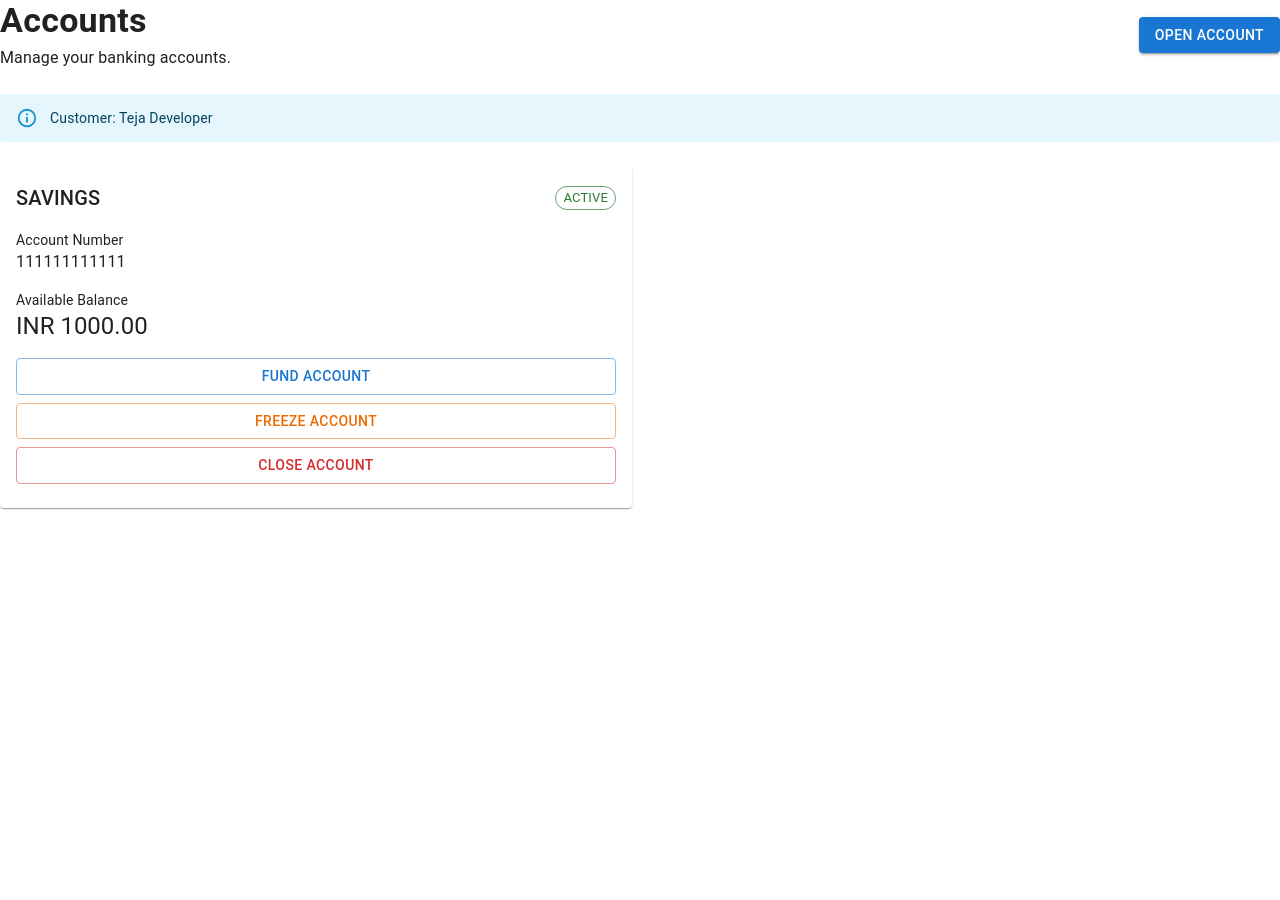
Test: Accounts › rejects invalid funding amount
The width and height of the screenshot is (1280, 900).
Expected: the text "111111111111" is shown, [16,252,126,271]
Click the button "Fund Account" at (316, 376), box [16,358,616,394]
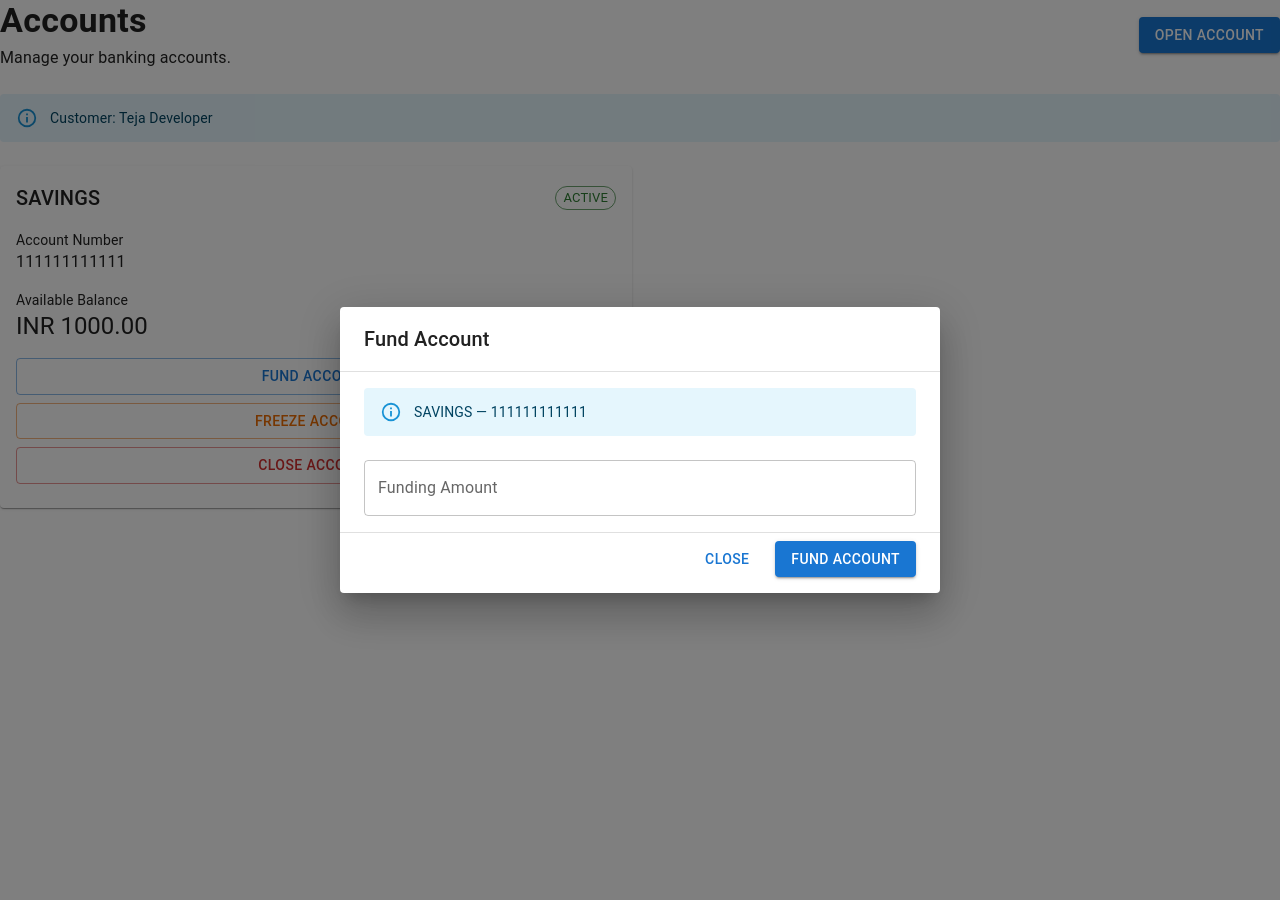
Type "0" into the field labelled "Funding Amount" at (640, 488), box [364,460,916,516]
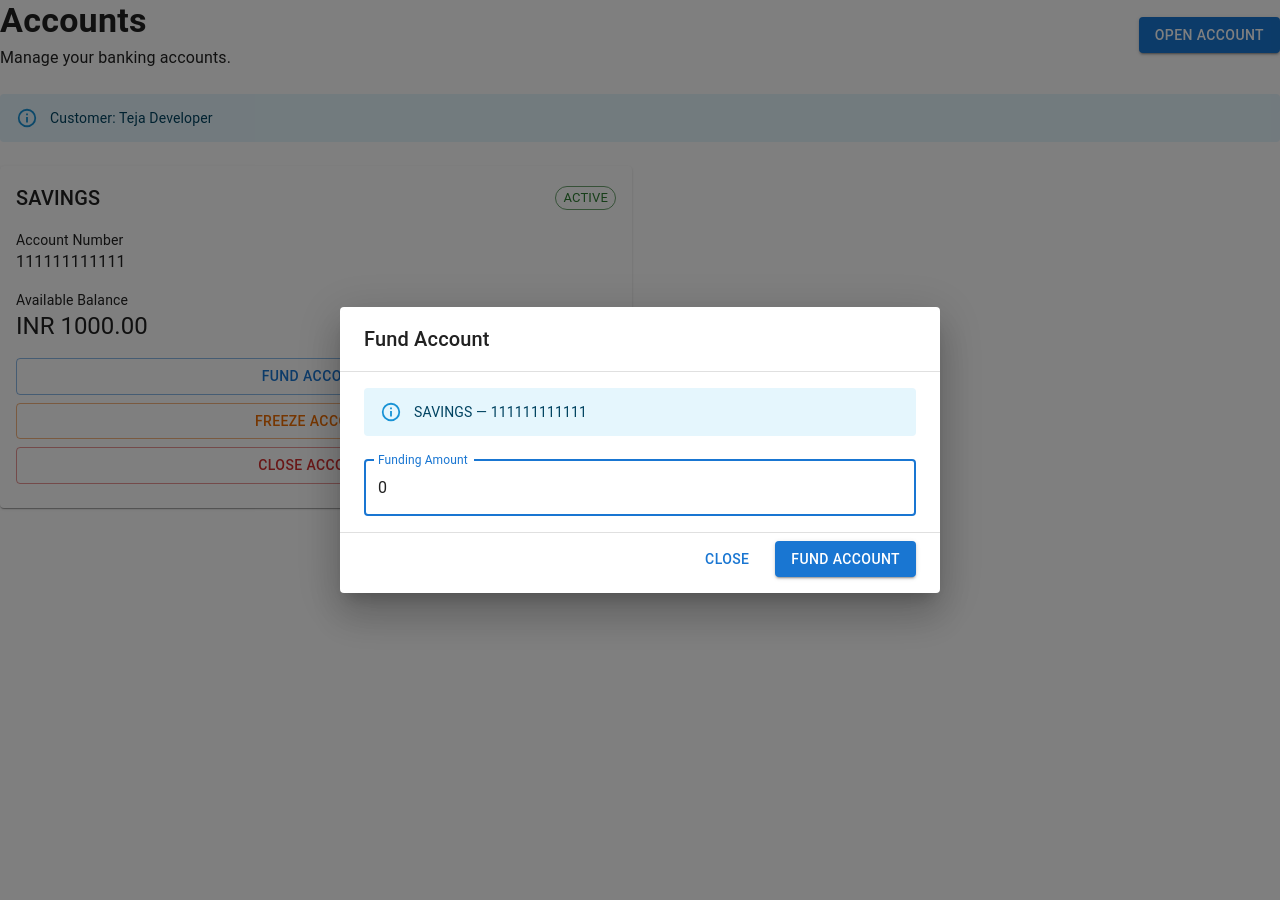
Click the button "Fund Account" at (846, 559), box [775,541,916,577]
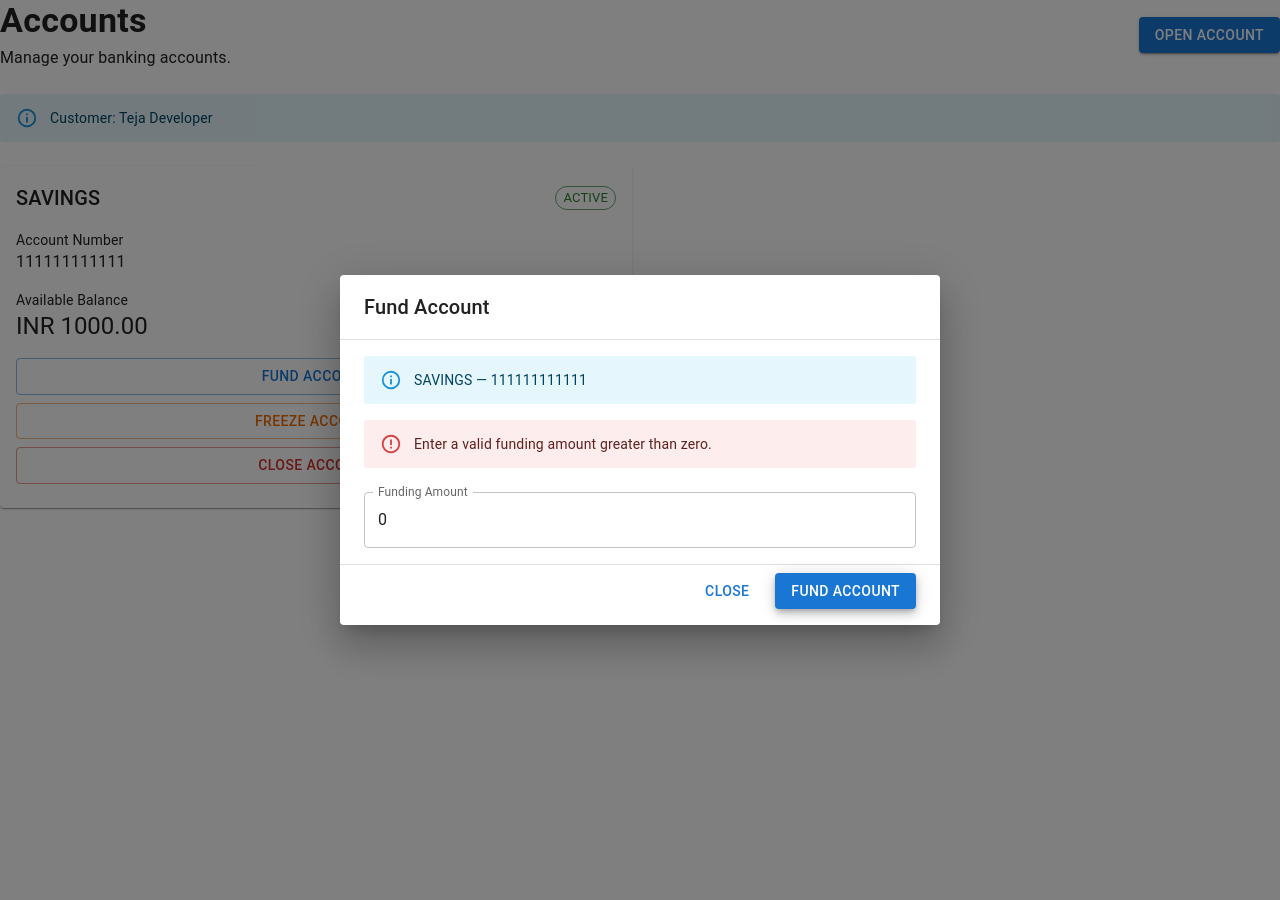
Result: the text "Enter a valid funding amount greater than zero." is shown at [414,436,712,452]
